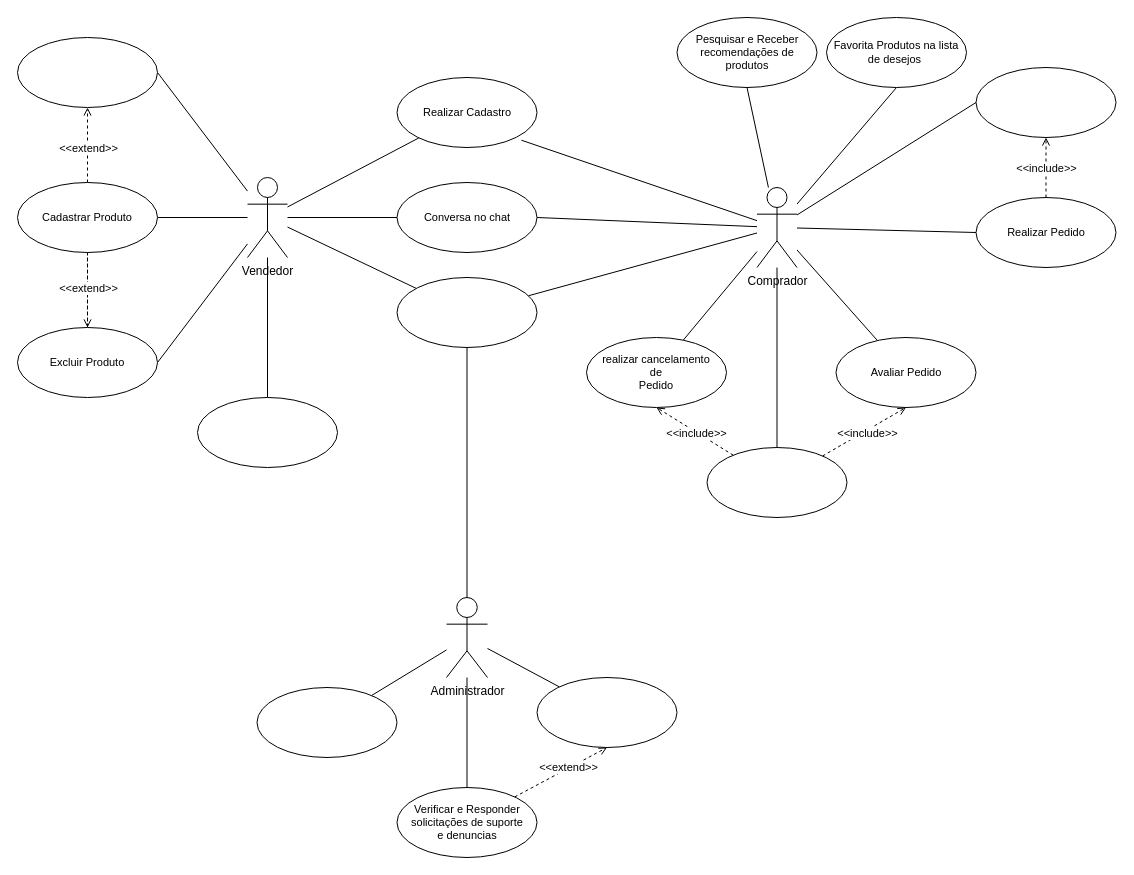
Some shapes in this 1134 by 875 pixel diagram are drawn without their labels. The centre of each missing label's shape, as x and y in pixels:
Adicionar Produto ao carrinho: [1045,102]
Bloquear Produtos de usuários: [606,712]
Editar Produtos Já cadastrados: [87,72]
Login: [466,312]
Realizar Manutenção no sistema: [326,722]
Verificar Vendas Realizadas e Dados dos produtos: [267,432]
Visualizar histórico de pedidos e detalhes de pedidos feitos: [776,482]
